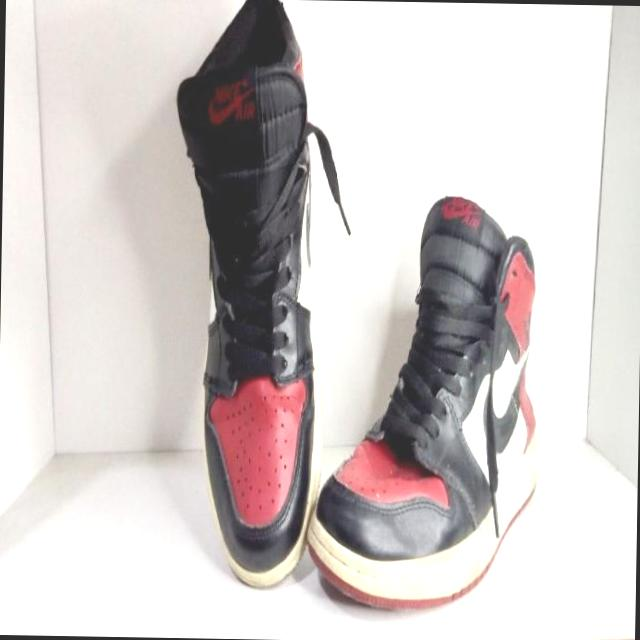nike_fake_jordan: (303, 193, 541, 622), (167, 0, 329, 591)
